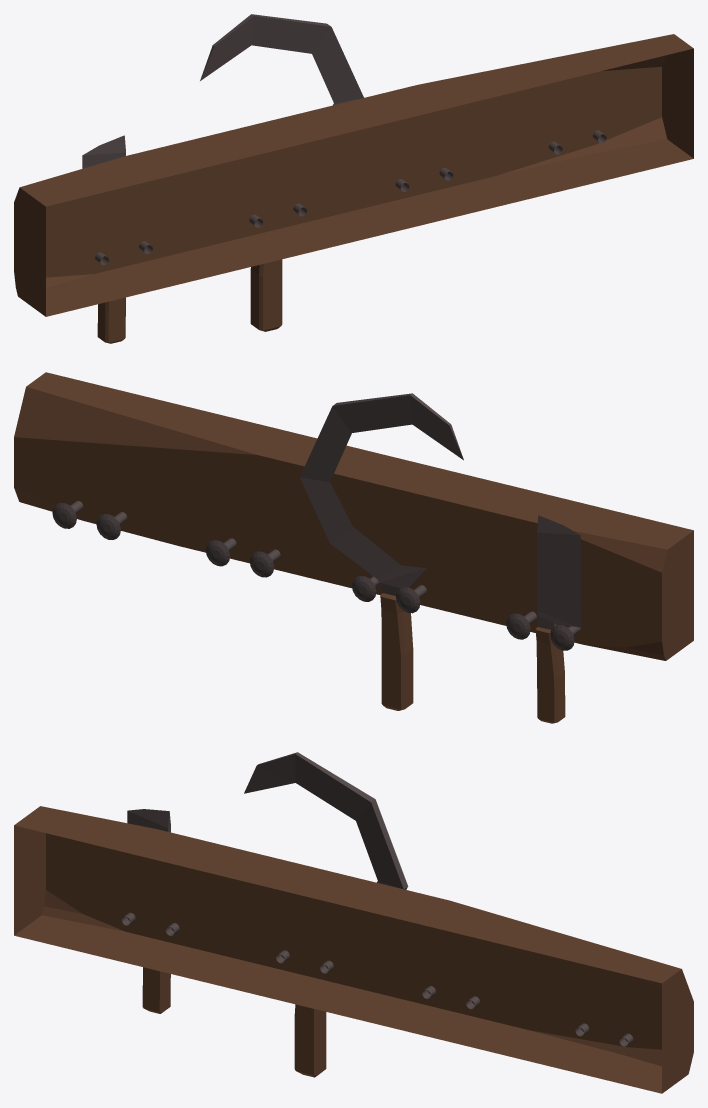
File: tool_wall.fbx
The picture shows the model from 3 angles, top to bottom: view 1: azimuth 30°, elevation 25°; view 2: azimuth 150°, elevation 25°; view 3: azimuth 330°, elevation 25°; orthographic projection.
Parts seen in each view (by area): view 1: repose outil mural; view 2: repose outil mural; view 3: repose outil mural.
Part boxes in pixels (x1,y1,x2,y2): repose outil mural: (14, 14, 693, 343); repose outil mural: (14, 372, 693, 723); repose outil mural: (14, 752, 693, 1093).
Size of the model in its own units: 119 by 55.51 by 15.18.
